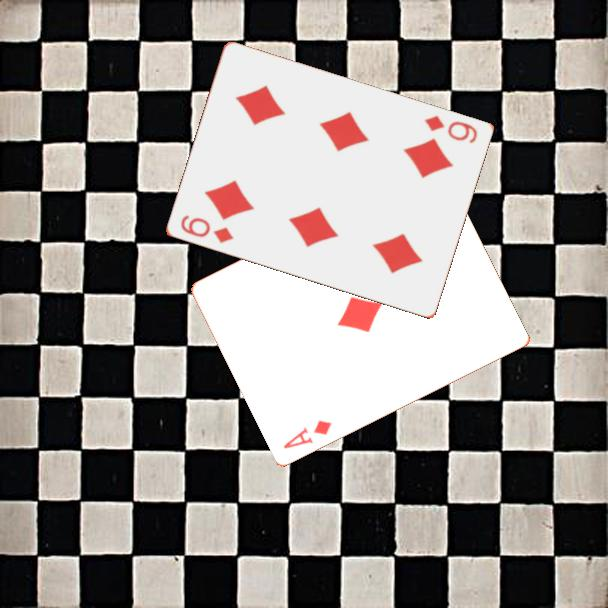d01: (280, 417, 335, 452)
d06: (420, 112, 480, 146), (177, 212, 236, 246)
